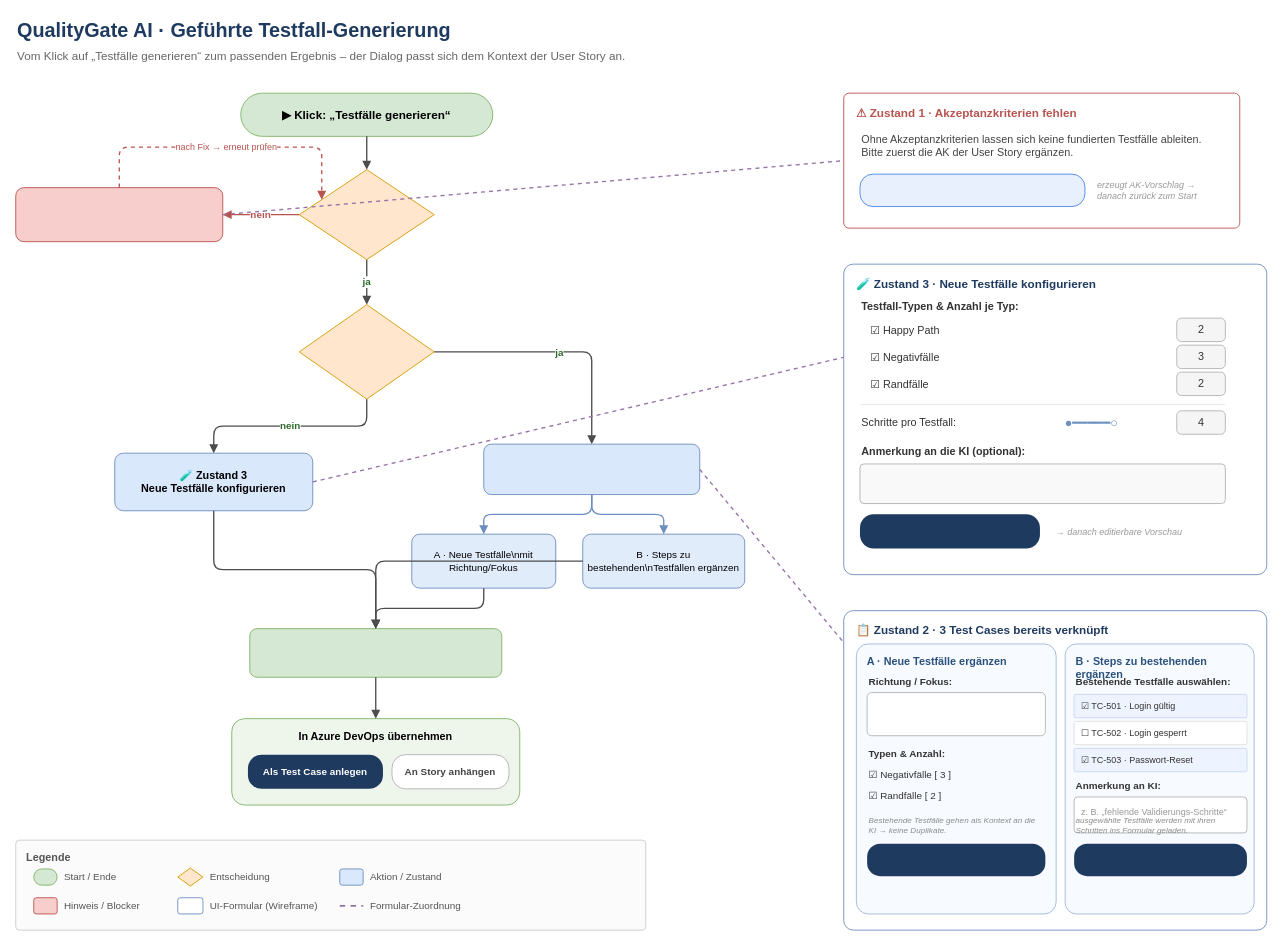
Some shapes in this 1283 by 946 pixel diagram are drawn without their labels. The centre of each missing label's shape, as x and y in pixels:
"Akzeptanz-\nkriterien\nvorhanden?" goes at pixel 366 214.
"Bereits Test Cases verknüpft? („Tested By“)" goes at pixel 366 351.
"Neue Testfälle generieren" goes at pixel 956 859.
"Steps generieren" goes at pixel 1160 859.
"Testfälle generieren" goes at pixel 950 531.
"z. B. nur Fehlerfälle & Timeouts, keine Wiederholung vorhandener" goes at pixel 955 714.
"z. B. „Fokus auf Zahlungslimits & Sonderzeichen in IBAN“" goes at pixel 1042 483.
"⚠ Zustand 1 Akzeptanzkriterien fehlen → Hinweis + Fix-Button" goes at pixel 119 214.
"✨ Mit Basic-Regelset beheben (Fix)" goes at pixel 972 190.
"👁 Vorschau – editierbare Testfälle" goes at pixel 375 652.
"📋 Zustand 2 Test Cases vorhanden – was tun?" goes at pixel 591 469.
